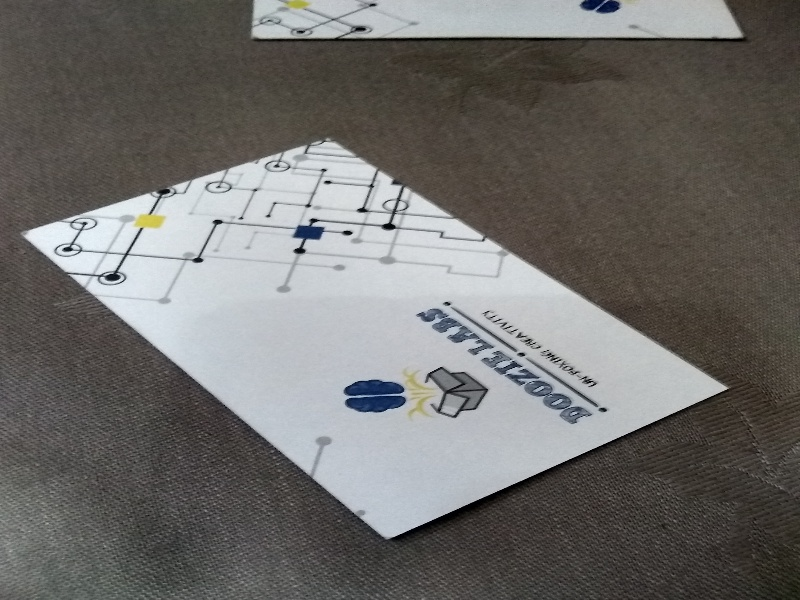back: (22, 134, 735, 544)
